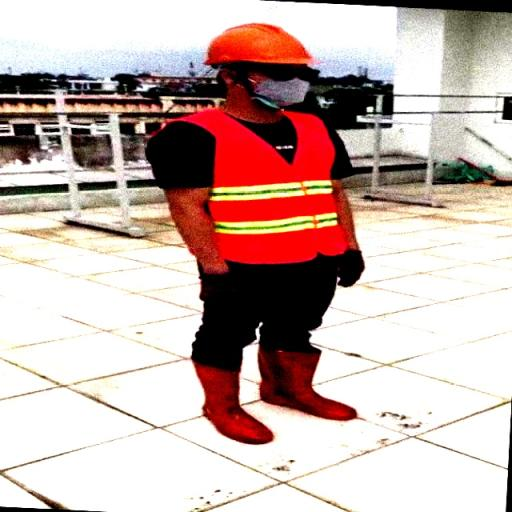Person: (116, 12, 398, 474)
boots: (181, 358, 281, 451), (254, 343, 360, 421)
gloves: (326, 248, 372, 286), (198, 274, 237, 308)
goggles: (236, 62, 322, 82)
helmet: (203, 22, 321, 64)
vest: (160, 99, 353, 267)
